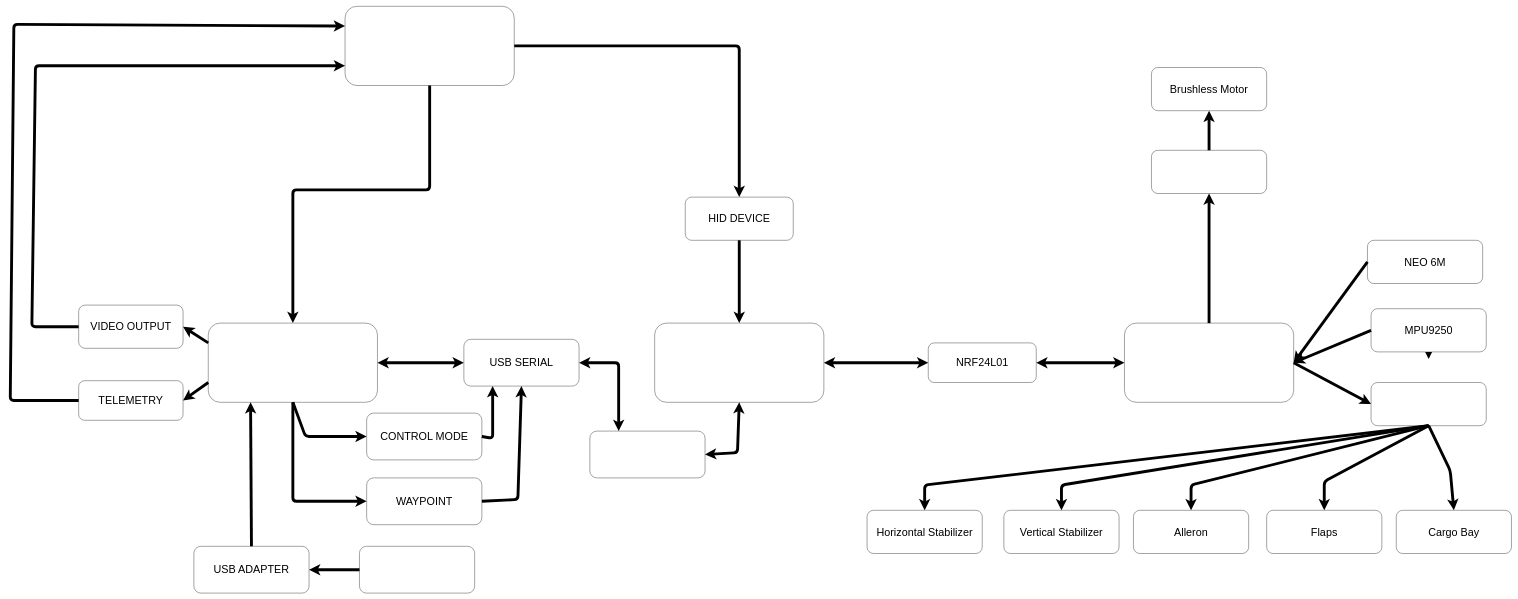
This 1518x599 diagram has some shape labels left out. The shapes that lost their labels are listed below. From the top down, each one's centre as x and y in pixels, then its label:
At [429,46]: "USER".
At [1209,172]: "ESC/VEC".
At [292,362]: "PC".
At [739,362]: "GROUND MICROCONTROLER".
At [1209,362]: "AERO MICROCONTROLER".
At [1428,404]: "PCA9685".
At [647,454]: "BINARY PARSER".
At [417,569]: "FPV RECEIVER".
